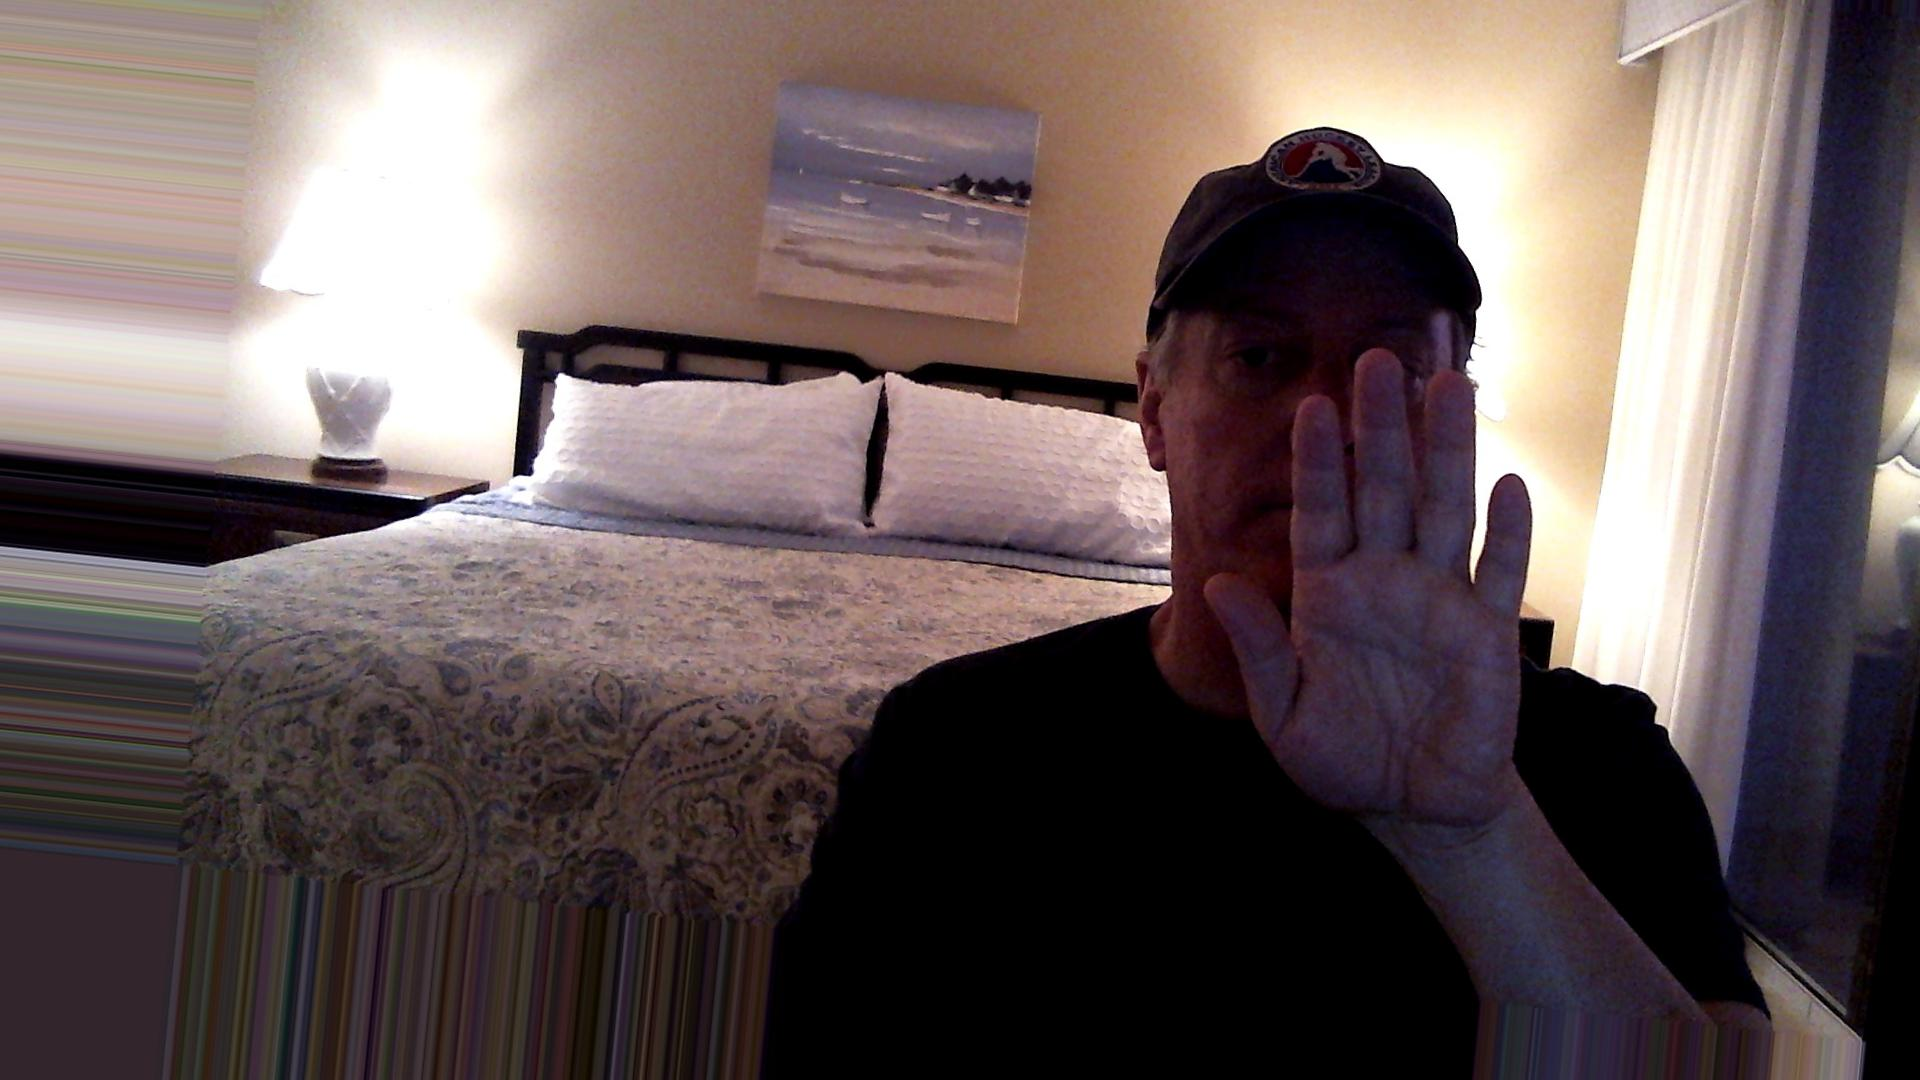Hello: (1193, 338, 1569, 844)
